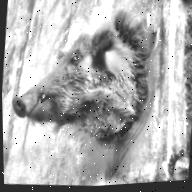boar: (6, 0, 159, 164)
